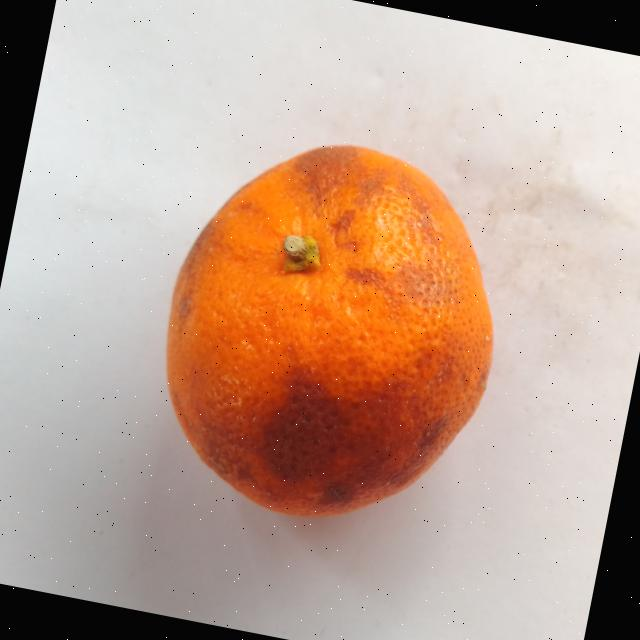overripe: (128, 100, 541, 554)
